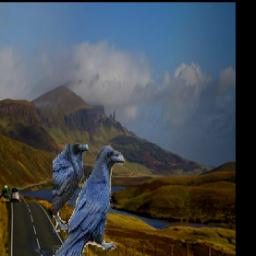Crow: (53, 144, 125, 256)
